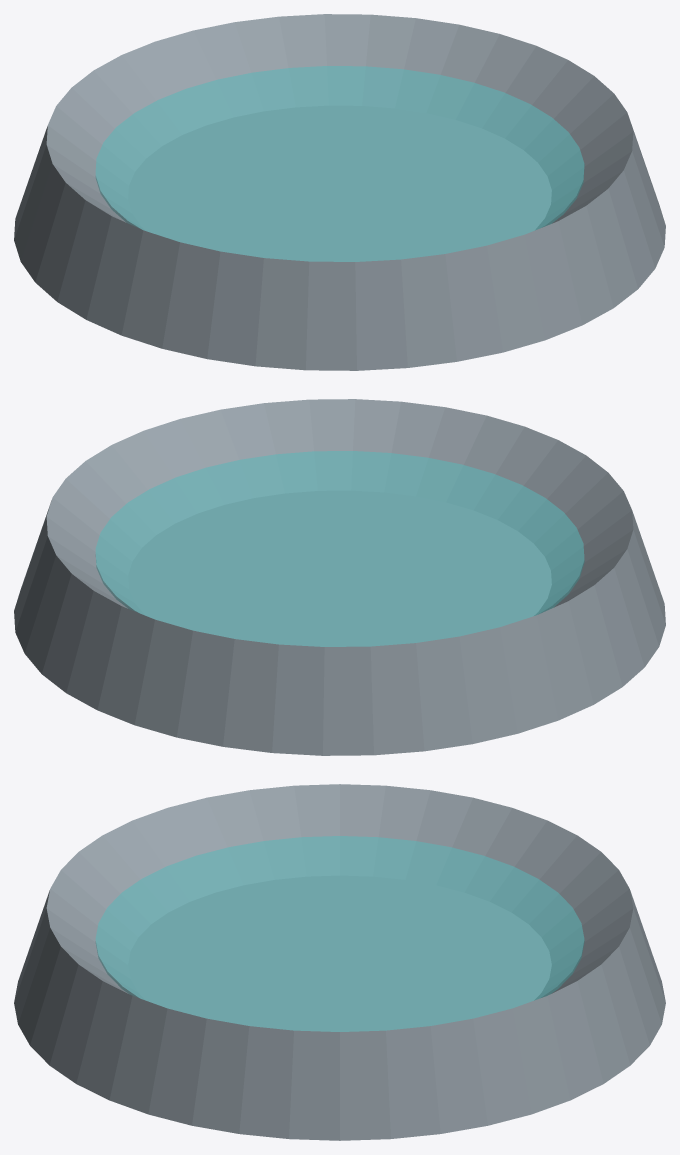
The model's file is tide_pool_block_tropical_island_and_palm_trees_6842.glb.
3 views of the same model, one above another, from view 1: azimuth 30°, elevation 25°; view 2: azimuth 150°, elevation 25°; view 3: azimuth 270°, elevation 25° (orthographic).
Parts seen in each view (by area): view 1: tide-pool-block; view 2: tide-pool-block; view 3: tide-pool-block.
Part boxes in pixels (x1,y1,x2,y2): tide-pool-block: (14,14,665,370); tide-pool-block: (14,399,665,755); tide-pool-block: (14,784,665,1140).
Size of the model in its own units: 2.8 by 0.4498 by 2.8.
